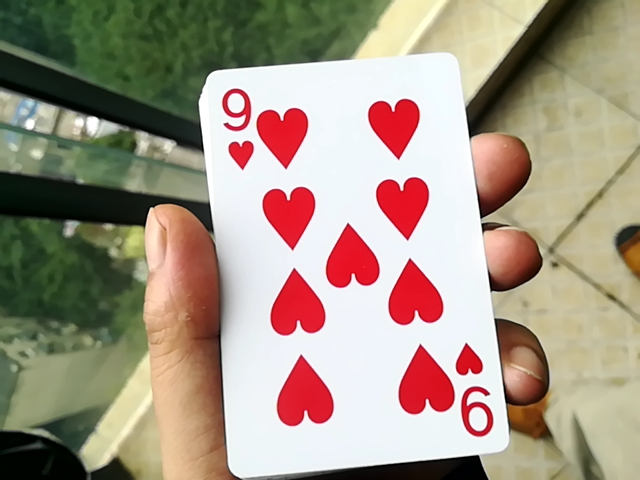hx 9: (182, 53, 506, 477)
